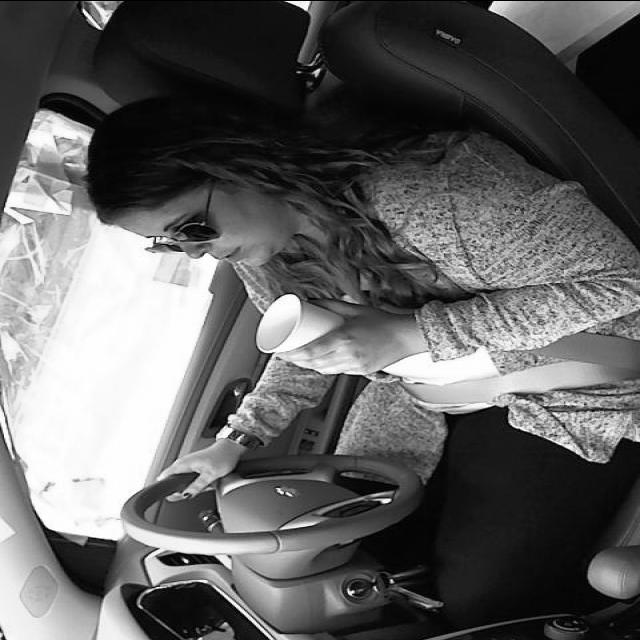drinking: (255, 293, 379, 365)
